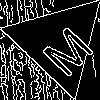M: (33, 18, 96, 80)
